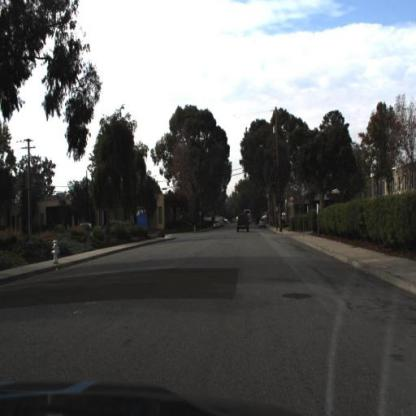car: (236, 210, 254, 236)
